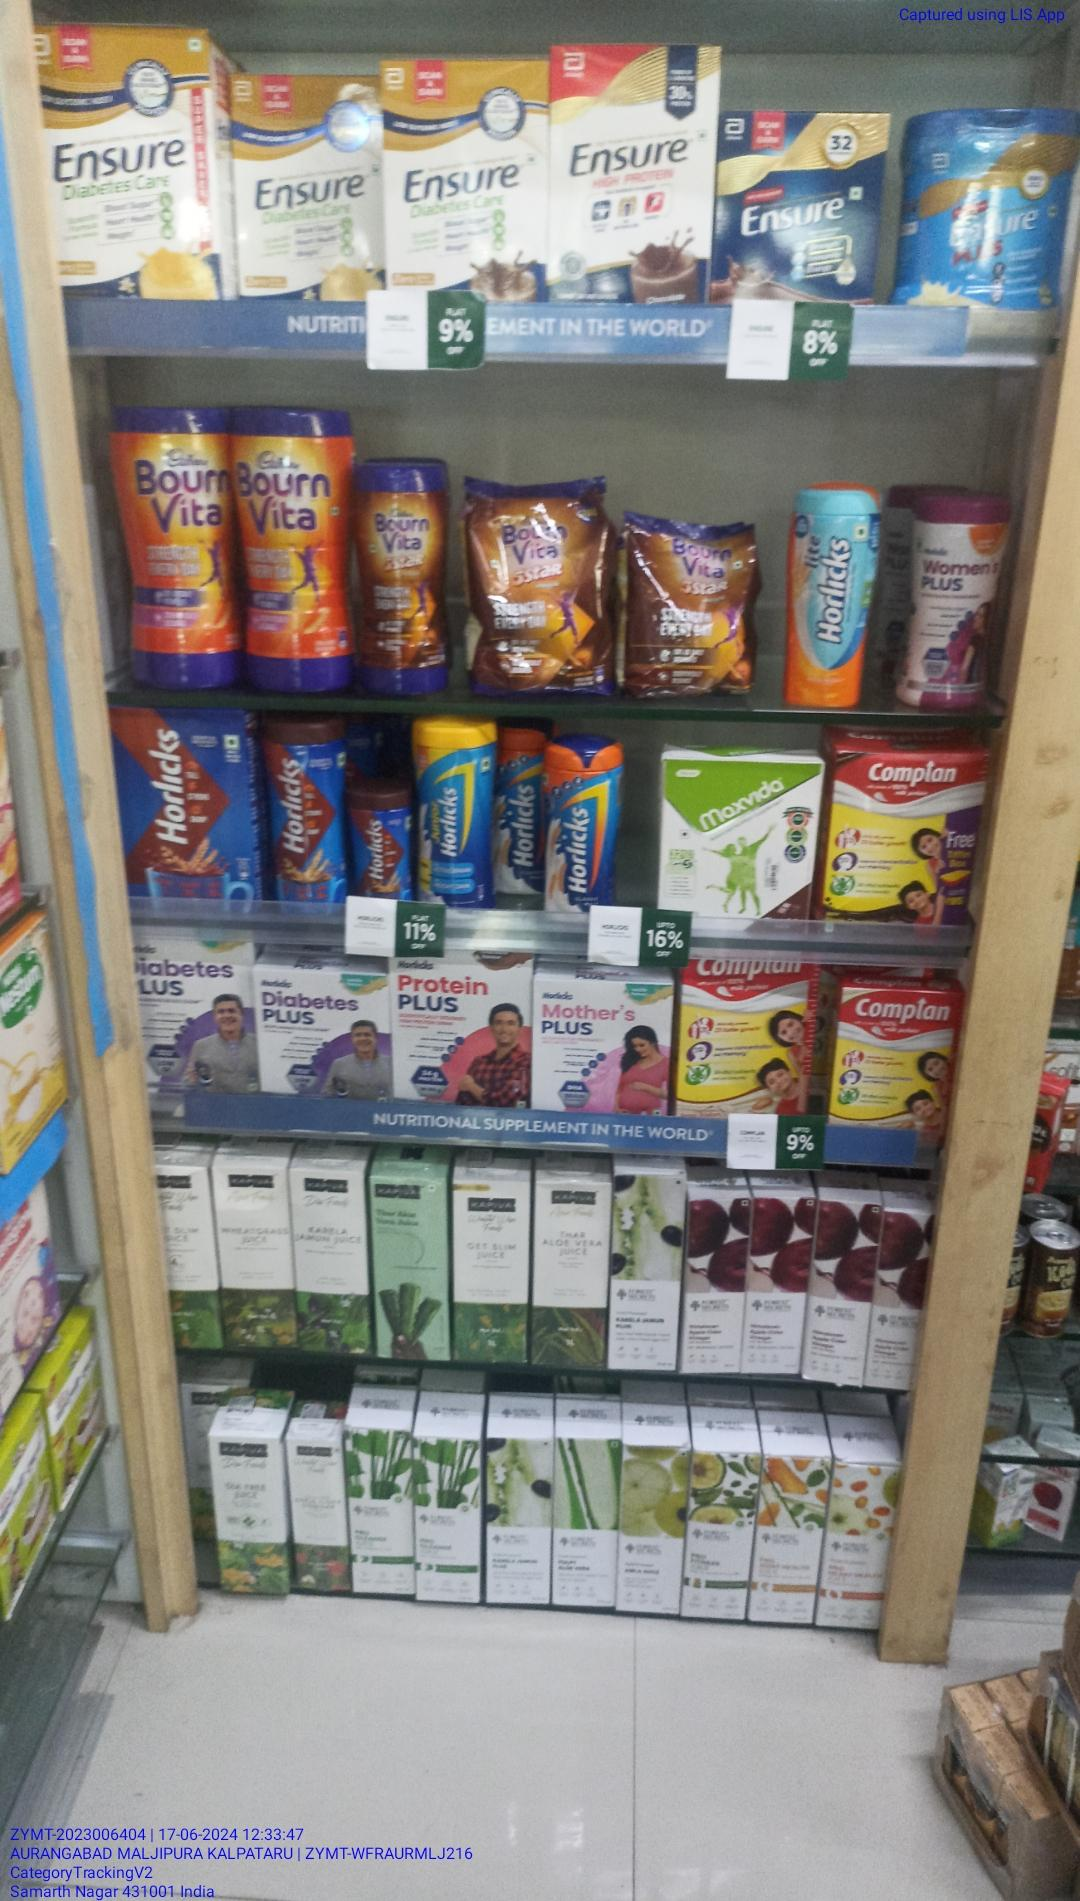BOURN_VITA_1_KG_JAR: (239, 407, 351, 692), (120, 406, 229, 684)
BOURN_VITA_FIVE_STAR_MAGIC_500_G_JAR: (358, 463, 451, 695)
BOURN_VITA_FIVE_STAR_MAGIC_500_G_POUCH: (623, 521, 768, 695)
BOURN_VITA_FIVE_STAR_MAGIC_750_G_POUCH: (471, 477, 607, 696)
COMPLAN_CHOCOLATE_500_GMS_PACK: (831, 746, 970, 931)
COMPLAN_KESAR_BADAM_500_GMS_PACK: (679, 958, 808, 1112), (833, 986, 953, 1129)
ENSURE_VANILLA_400_G_PACK: (721, 116, 875, 300)
HORLICKS_JUNIOR_VANILLA_500_GM_JAR: (417, 718, 495, 901)
HORLICKS_LITE_REGULAR_MALT_500_GM_JAR: (786, 490, 875, 718)
HORLICK_CHOCOLATE_200_G_JAR: (350, 790, 413, 896)
HORLICK_CHOCOLATE_500_G_JAR: (264, 714, 343, 915)
HORLICK_CHOCOLATE_500_G_PACK: (112, 708, 255, 919)
HORLICK_CLASSIC_MALT_500_G_JAR: (541, 742, 618, 903)
